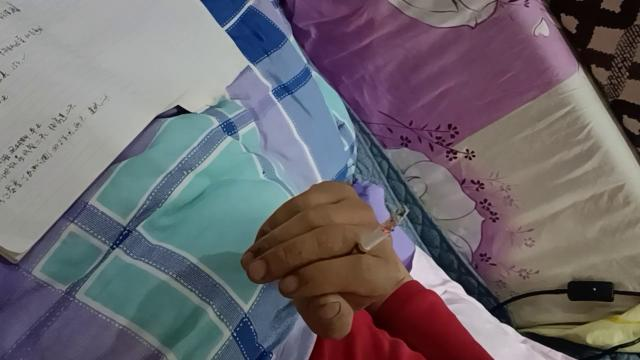Cigarette: (346, 205, 408, 261)
